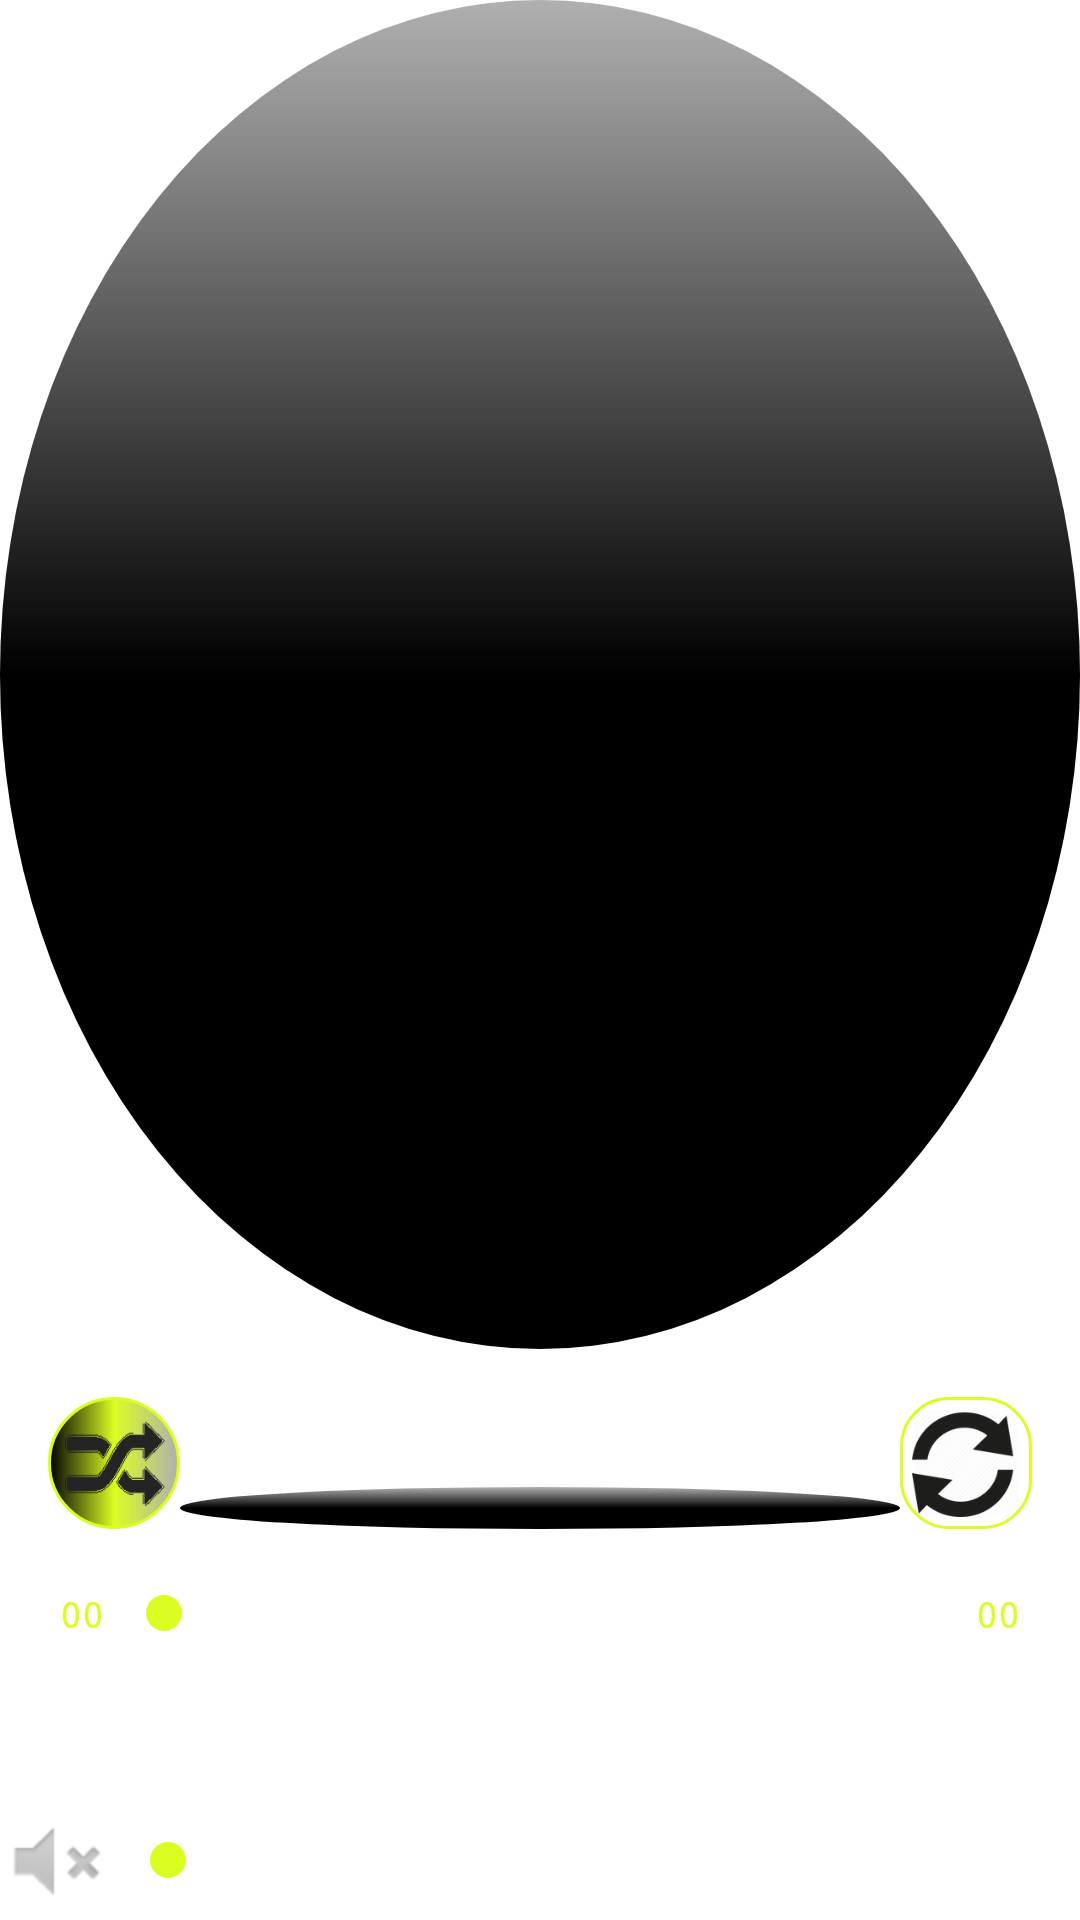

Icons on this 1080 × 1920 Android screen, each with the point to tap as (x,y):
lock silent mode: (57,1861)
repeat: (966,1463)
shuffle: (114,1463)
